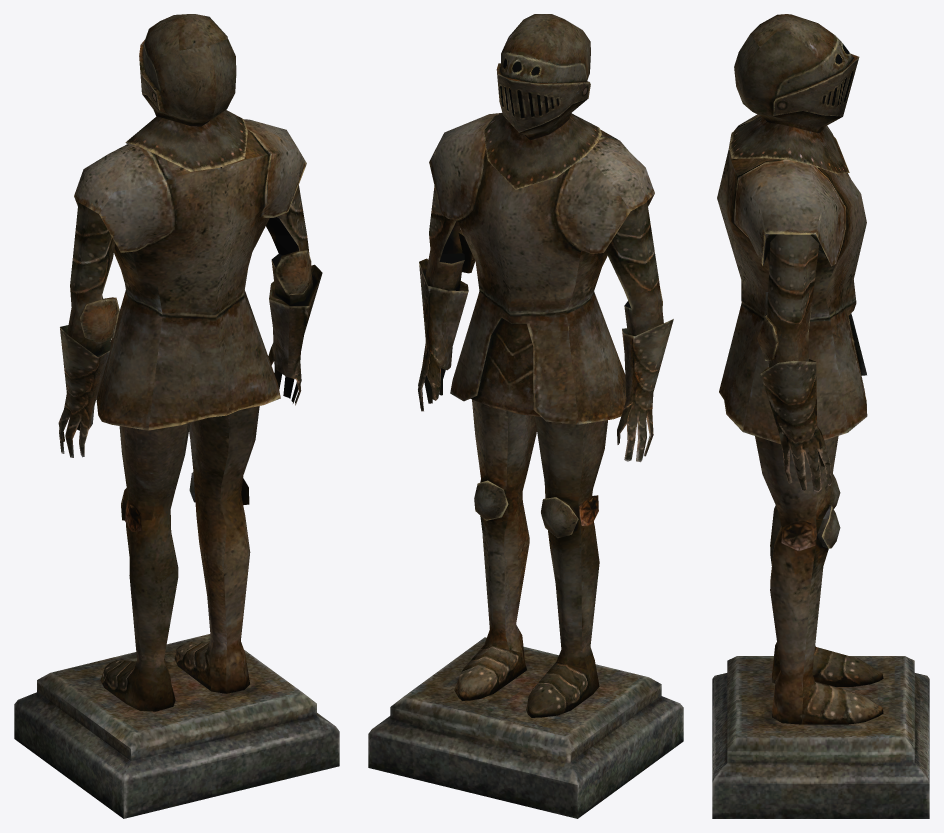
File: armour_rusty_complete.dae
3 views of the same model, side by side, from view 1: azimuth 30°, elevation 25°; view 2: azimuth 150°, elevation 25°; view 3: azimuth 270°, elevation 25° (orthographic). The views are drawn at different scales.
Visible parts, largest first — view 1: breastplate, podium, right_boot, left_boot, head, left_glove, right_glove; view 2: breastplate, podium, left_boot, head, right_boot, left_glove, right_glove; view 3: podium, breastplate, right_boot, head, right_glove, left_boot.
Boxes of the visible parts, bbox=[...] form: breastplate: bbox=[74, 119, 306, 430]; podium: bbox=[14, 634, 339, 818]; right_boot: bbox=[174, 406, 259, 693]; left_boot: bbox=[100, 423, 190, 711]; head: bbox=[125, 14, 247, 171]; left_glove: bbox=[58, 202, 119, 457]; right_glove: bbox=[266, 185, 322, 405]; breastplate: bbox=[429, 113, 654, 424]; podium: bbox=[368, 637, 683, 818]; left_boot: bbox=[526, 416, 607, 717]; head: bbox=[483, 14, 601, 189]; right_boot: bbox=[454, 399, 536, 700]; left_glove: bbox=[606, 201, 673, 462]; right_glove: bbox=[418, 185, 475, 411]; podium: bbox=[712, 656, 929, 818]; breastplate: bbox=[717, 114, 867, 444]; right_boot: bbox=[755, 436, 883, 724]; head: bbox=[729, 14, 859, 173]; right_glove: bbox=[757, 234, 831, 492]; left_boot: bbox=[770, 474, 883, 686].
Bounding box in the file's own units: 0.9166 × 0.6794 × 2.57.
2 materials, 2 textured.
